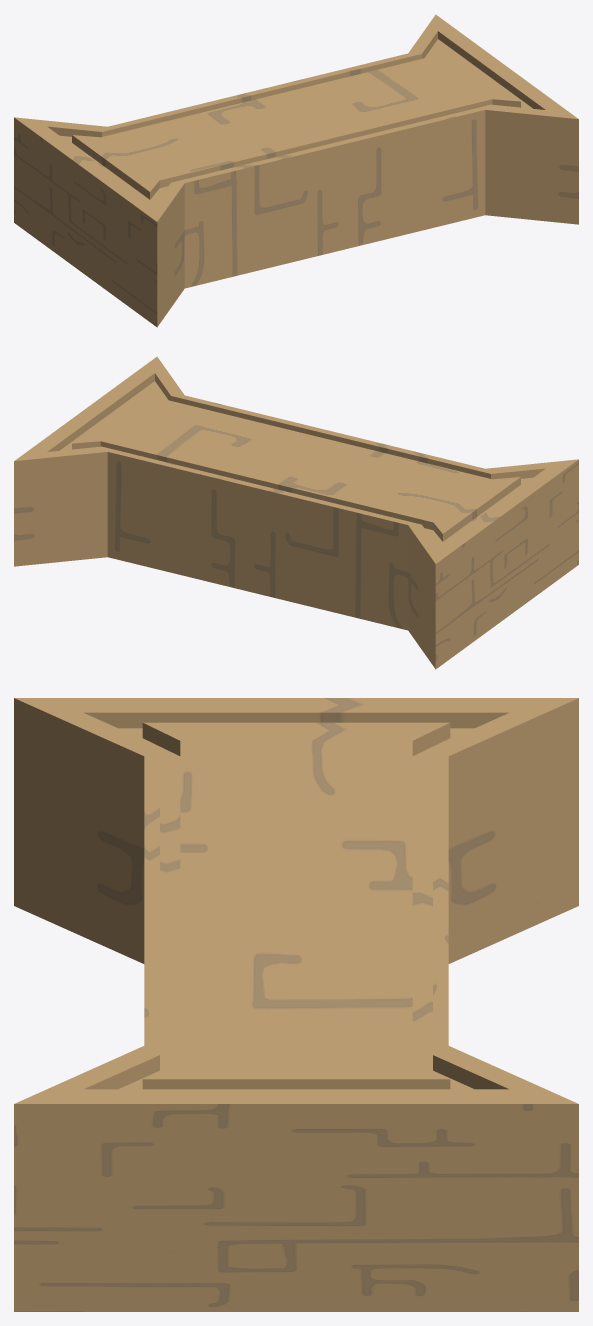
File: Mesh_PlatformLong1.glb
3 renders of one model, top to bottom at view 1: azimuth 30°, elevation 25°; view 2: azimuth 150°, elevation 25°; view 3: azimuth 270°, elevation 25°, orthographic. The views are drawn at different scales.
Parts seen in each view (by area): view 1: Cube.072; view 2: Cube.072; view 3: Cube.072.
Boxes of the visible parts, bbox=[...] form: Cube.072: bbox=[14, 14, 578, 327]; Cube.072: bbox=[14, 356, 578, 669]; Cube.072: bbox=[14, 698, 578, 1311].
Size of what is drawn, in the model's own units: 29.31 by 7 by 17.24.
Materials: 1 (1 with a texture image).
